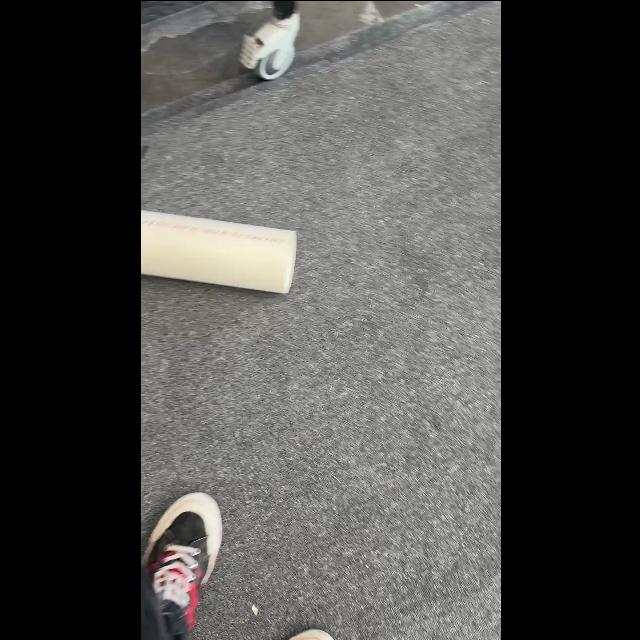CORAL: (140, 207, 296, 293)
